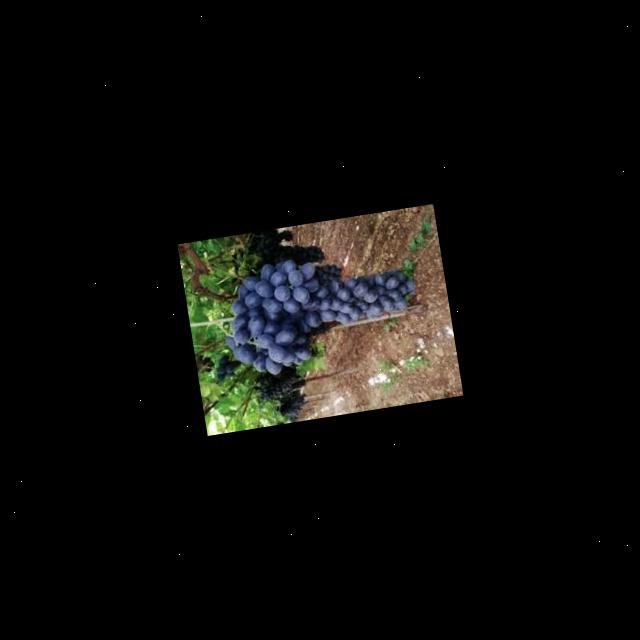grape: (206, 240, 424, 382)
